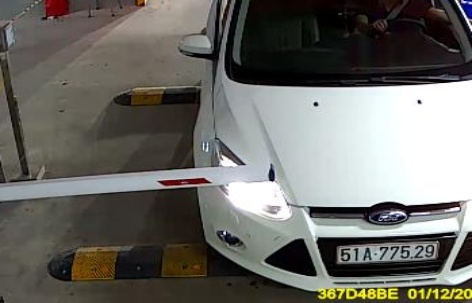plate: (336, 242, 439, 265)
